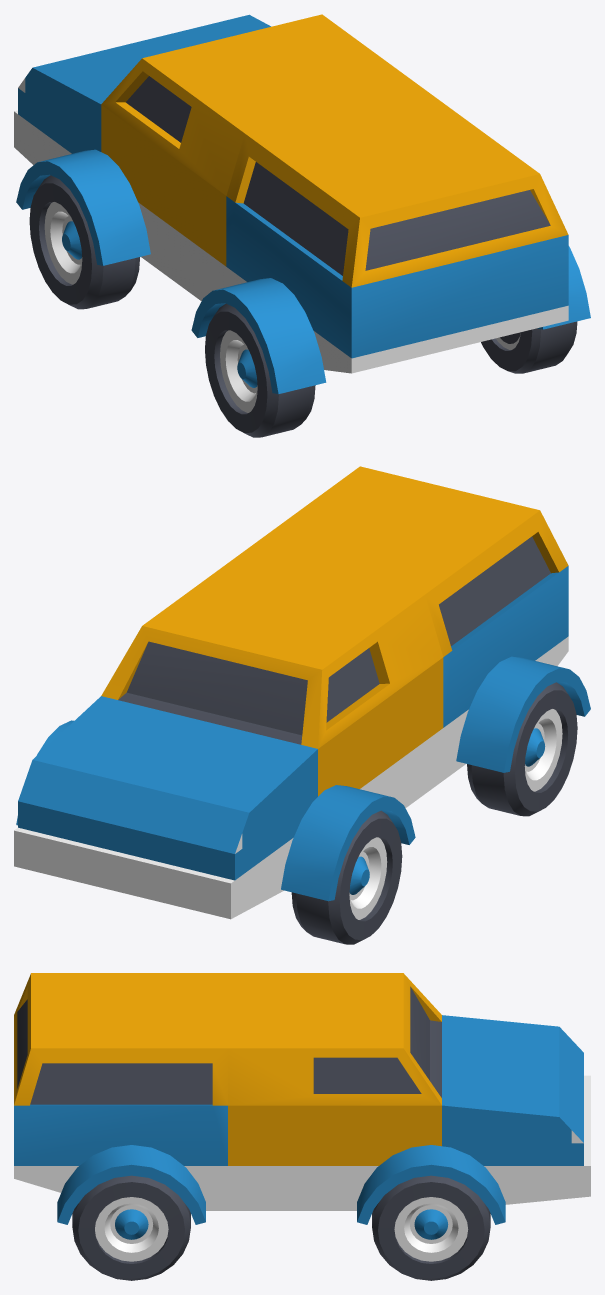
File: van.model.fbx
3 renders of one model, top to bottom at view 1: azimuth 30°, elevation 25°; view 2: azimuth 150°, elevation 25°; view 3: azimuth 270°, elevation 25°, orthographic. The views are drawn at different scales.
Visible parts, largest first — view 1: trunk_station_1, windshield_square_0, hood_default_4, wheel_colored_5, wheel_colored_6, detail_fender_9, detail_fender_10, wheel_colored_7, detail_fender_11; view 2: windshield_square_0, hood_default_4, trunk_station_1, wheel_colored_6, wheel_colored_5, detail_fender_10, detail_fender_9; view 3: windshield_square_0, trunk_station_1, hood_default_4, wheel_colored_8, wheel_colored_7, detail_fender_11, detail_fender_12.
Boxes of the visible parts, bbox=[...] form: trunk_station_1: bbox=[226, 89, 568, 373]; windshield_square_0: bbox=[101, 14, 424, 300]; hood_default_4: bbox=[14, 14, 270, 164]; wheel_colored_5: bbox=[29, 175, 139, 309]; wheel_colored_6: bbox=[205, 303, 315, 437]; detail_fender_9: bbox=[16, 149, 150, 265]; detail_fender_10: bbox=[191, 278, 326, 394]; wheel_colored_7: bbox=[481, 321, 577, 373]; detail_fender_11: bbox=[537, 246, 590, 329]; windshield_square_0: bbox=[101, 551, 443, 808]; hood_default_4: bbox=[14, 696, 317, 919]; trunk_station_1: bbox=[245, 466, 568, 780]; wheel_colored_6: bbox=[467, 682, 577, 816]; wheel_colored_5: bbox=[291, 810, 402, 944]; detail_fender_10: bbox=[456, 656, 590, 772]; detail_fender_9: bbox=[281, 785, 415, 901]; windshield_square_0: bbox=[228, 973, 441, 1210]; trunk_station_1: bbox=[14, 973, 227, 1210]; hood_default_4: bbox=[442, 1015, 590, 1204]; wheel_colored_8: bbox=[372, 1175, 490, 1280]; wheel_colored_7: bbox=[72, 1175, 190, 1280]; detail_fender_11: bbox=[57, 1145, 205, 1224]; detail_fender_12: bbox=[357, 1145, 505, 1224].
Size of the model in its own units: 14.4 by 10.77 by 26.96.
